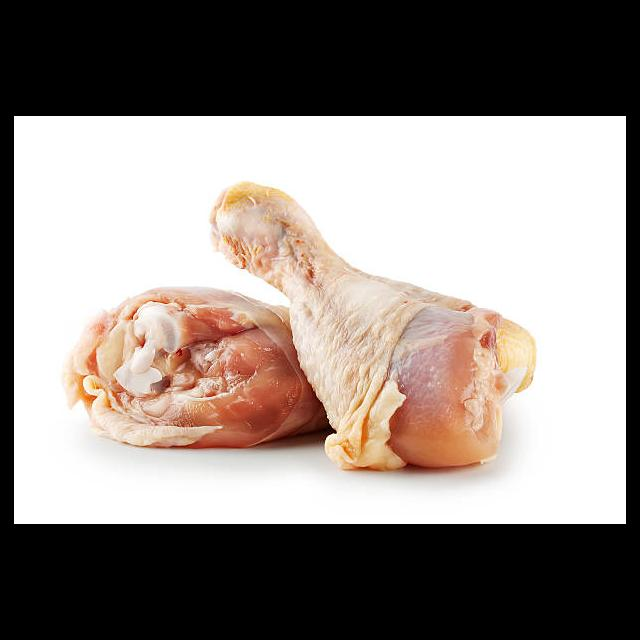chicken: (208, 181, 538, 469), (62, 289, 341, 448)
